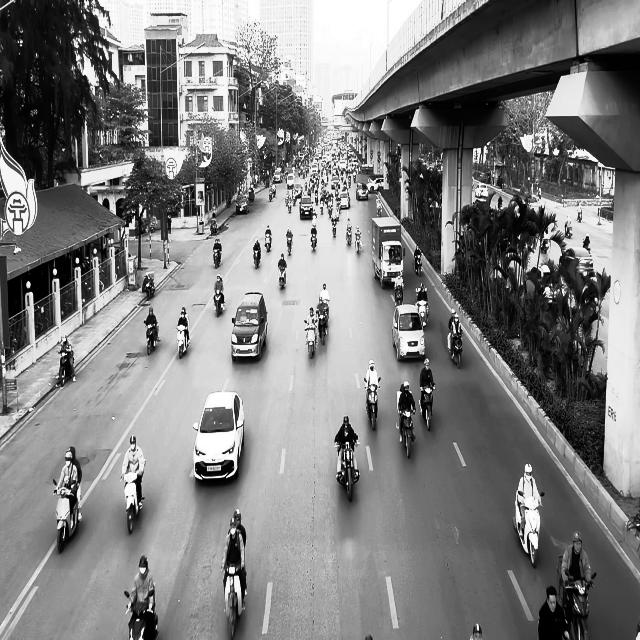car: (192, 390, 245, 482), (231, 292, 267, 362), (392, 304, 425, 361), (559, 246, 594, 282), (299, 196, 313, 219), (236, 194, 250, 214), (475, 183, 488, 199)
motorbike: (557, 556, 596, 639), (513, 489, 544, 568), (52, 478, 82, 554), (124, 584, 159, 640), (120, 460, 146, 534), (222, 562, 246, 639), (335, 438, 359, 502), (364, 376, 380, 431), (420, 384, 436, 431), (447, 328, 463, 368), (144, 320, 160, 355), (176, 324, 190, 359), (304, 321, 317, 358), (213, 289, 225, 317), (317, 312, 327, 345), (143, 273, 155, 299), (394, 282, 403, 306), (213, 245, 221, 268), (278, 266, 286, 289), (414, 254, 422, 276), (264, 232, 272, 252), (253, 246, 260, 268), (310, 228, 317, 250), (355, 234, 362, 254), (345, 227, 352, 246), (331, 215, 337, 237), (564, 222, 572, 238), (286, 236, 292, 255)
truck: (371, 216, 404, 288)
